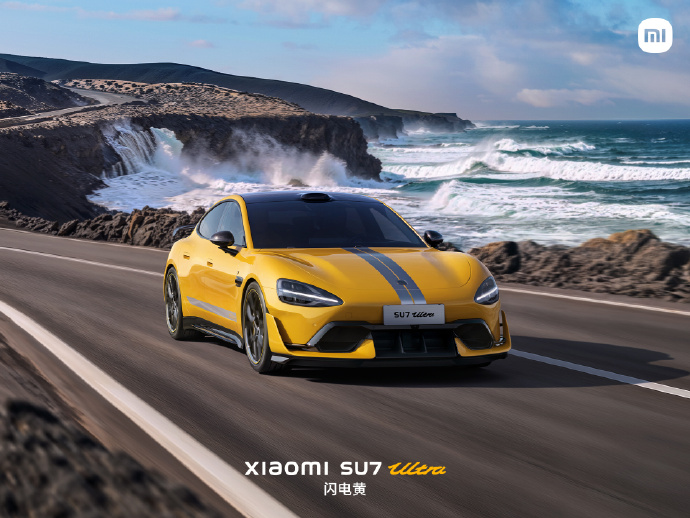su7: (152, 185, 515, 368)
